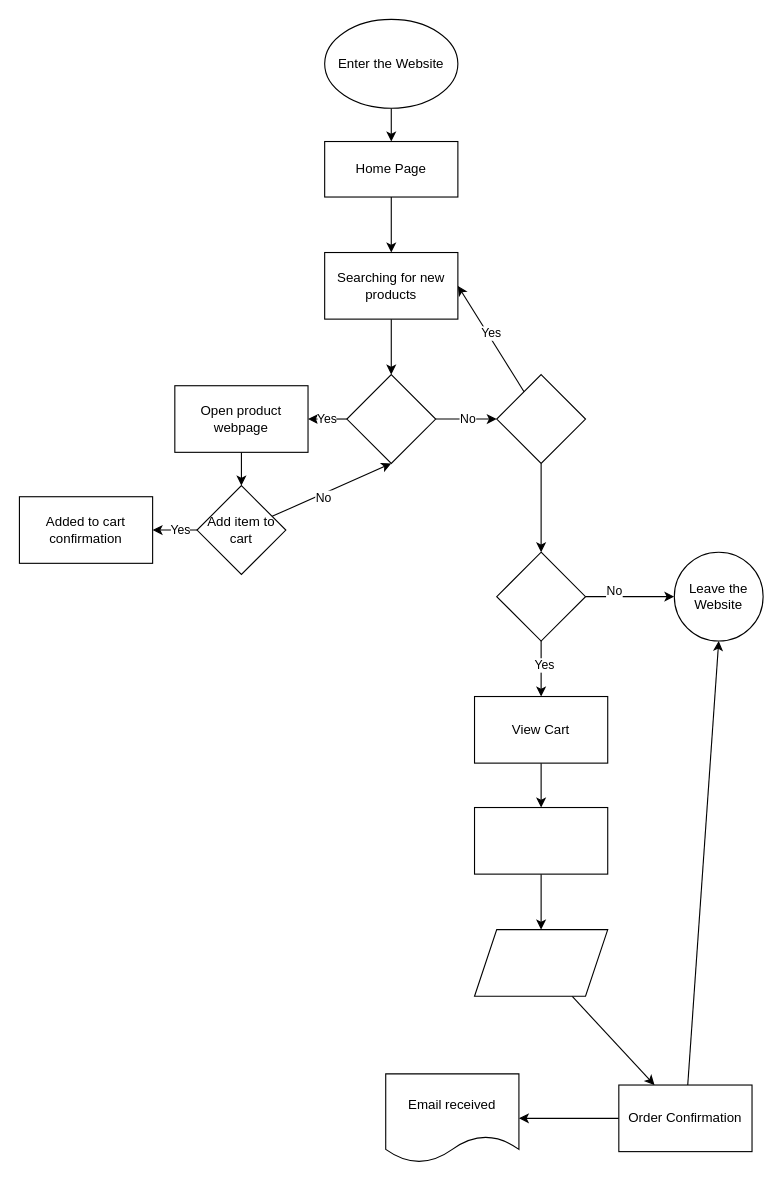
The diagram is 783 pixels wide and 1182 high, and some of its shapes have lost their labels. Each missing label, with the box of its shape:
Checkout?: (496, 551, 586, 641)
Continue shopping?: (496, 374, 586, 463)
Input Payment Information: (473, 929, 608, 996)
View a specific product: (346, 374, 436, 463)
View Payment: (473, 806, 608, 874)
